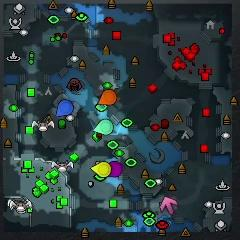p1: (56, 99, 74, 117)
p2: (94, 118, 114, 135)
p3: (107, 161, 123, 178)
p4: (91, 162, 111, 178)
p5: (97, 90, 117, 106)
x1: (159, 196, 177, 214)
